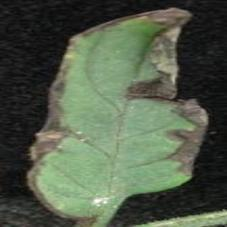Bacterial Spot: (24, 6, 211, 220)
